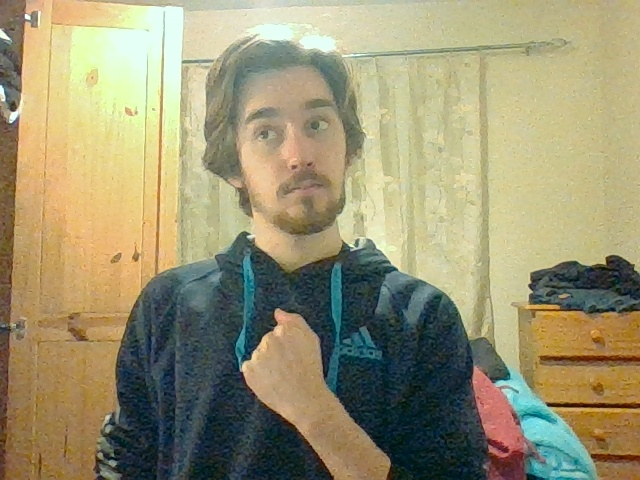my: (240, 308, 322, 403)
